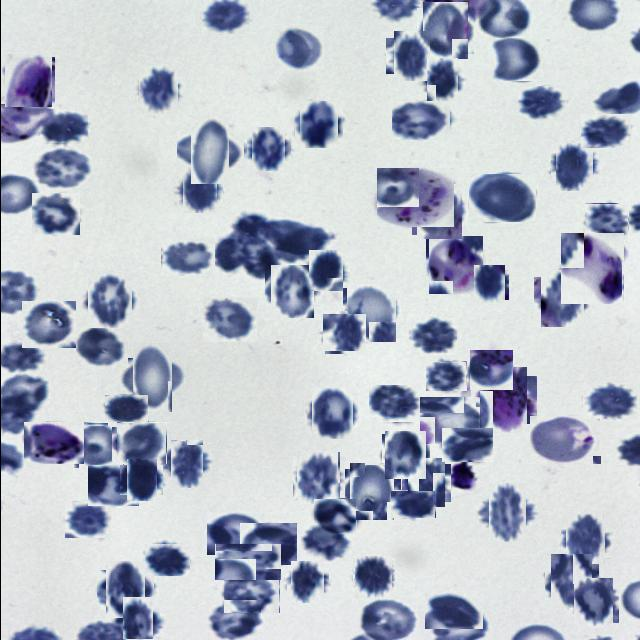difficult: (474, 372, 532, 428)
red blood cell: (528, 415, 600, 464), (468, 174, 535, 222), (419, 396, 486, 444), (124, 350, 178, 406), (344, 286, 398, 340), (183, 124, 236, 177), (418, 6, 471, 56), (34, 146, 90, 192), (21, 301, 75, 348), (84, 276, 134, 326), (346, 466, 396, 516), (536, 274, 586, 324), (414, 187, 464, 237), (214, 543, 281, 580), (266, 267, 316, 316), (206, 513, 264, 555), (482, 488, 530, 538), (239, 523, 296, 565), (202, 298, 256, 342), (391, 100, 450, 140), (100, 566, 149, 614), (294, 454, 342, 502), (547, 557, 595, 605), (72, 422, 122, 468), (75, 324, 127, 368), (272, 26, 323, 70), (223, 573, 279, 613), (424, 591, 482, 629), (491, 38, 541, 82), (308, 391, 354, 437), (160, 237, 214, 276), (116, 422, 166, 464), (87, 465, 138, 506), (562, 517, 608, 562), (382, 433, 428, 478), (570, 580, 615, 626), (368, 384, 422, 422), (208, 600, 260, 639), (31, 193, 79, 235), (136, 68, 180, 112), (388, 34, 432, 78), (296, 102, 339, 146), (582, 384, 636, 419), (403, 462, 448, 504), (552, 146, 596, 188), (441, 428, 492, 462), (469, 350, 512, 390), (517, 86, 566, 121), (303, 523, 348, 561), (64, 501, 110, 538), (410, 318, 456, 355), (580, 114, 630, 148), (179, 170, 219, 211), (322, 312, 363, 352), (38, 110, 86, 144), (201, 0, 249, 34), (166, 444, 206, 484), (353, 557, 393, 597), (584, 203, 628, 239), (116, 603, 158, 640), (313, 498, 356, 534), (248, 130, 288, 168), (144, 543, 190, 576), (422, 61, 460, 99), (288, 563, 326, 601), (306, 252, 344, 290), (122, 462, 158, 498), (390, 490, 435, 518), (104, 394, 148, 422), (425, 361, 466, 391), (472, 266, 506, 302)
trophozoite: (376, 168, 454, 228), (558, 235, 624, 302), (427, 237, 482, 293), (23, 422, 83, 464), (2, 56, 52, 106)
